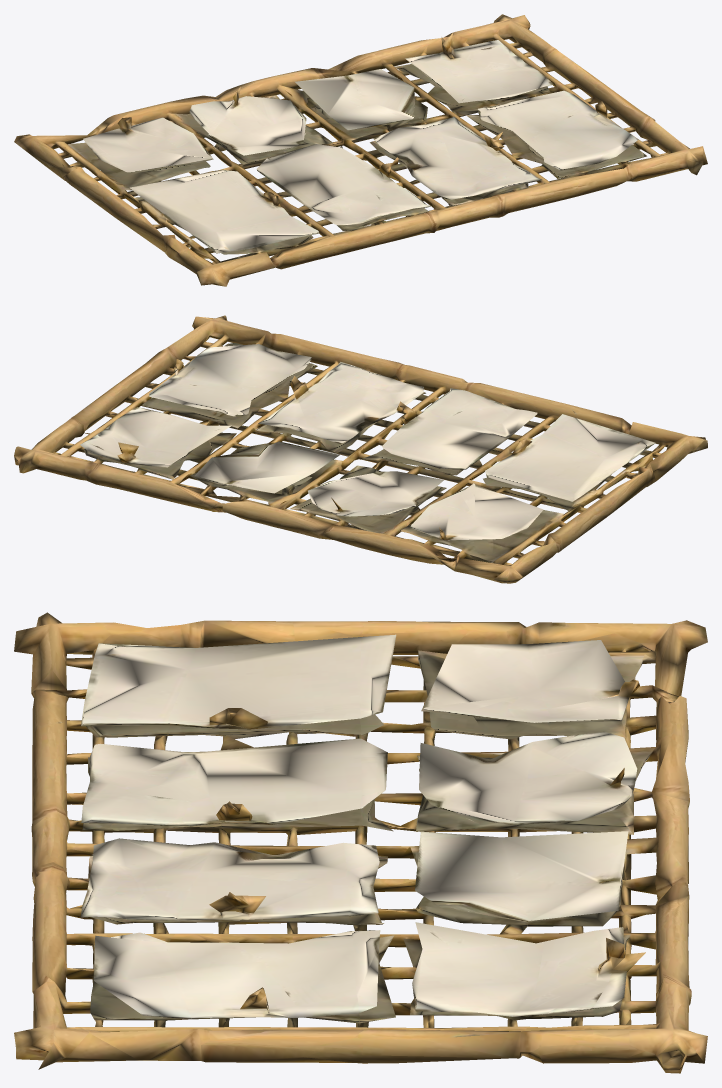
File: phen-phoi-giay.a15c4fa8.glb
The picture shows the model from 3 angles, top to bottom: view 1: azimuth 30°, elevation 25°; view 2: azimuth 150°, elevation 25°; view 3: azimuth 270°, elevation 25°; orthographic projection. The views are drawn at different scales.
Visible parts, largest first — view 1: tripo_node_dac47110-188c-4509-a35a-391faa7430d2; view 2: tripo_node_dac47110-188c-4509-a35a-391faa7430d2; view 3: tripo_node_dac47110-188c-4509-a35a-391faa7430d2.
Part boxes in pixels (x1,y1,x2,y2): tripo_node_dac47110-188c-4509-a35a-391faa7430d2: (14,14,707,286); tripo_node_dac47110-188c-4509-a35a-391faa7430d2: (14,315,707,583); tripo_node_dac47110-188c-4509-a35a-391faa7430d2: (14,612,707,1073).
Bounding box in the file's own units: 0.9842 × 0.0636 × 0.6663.
Materials: 1 (1 with a texture image).
